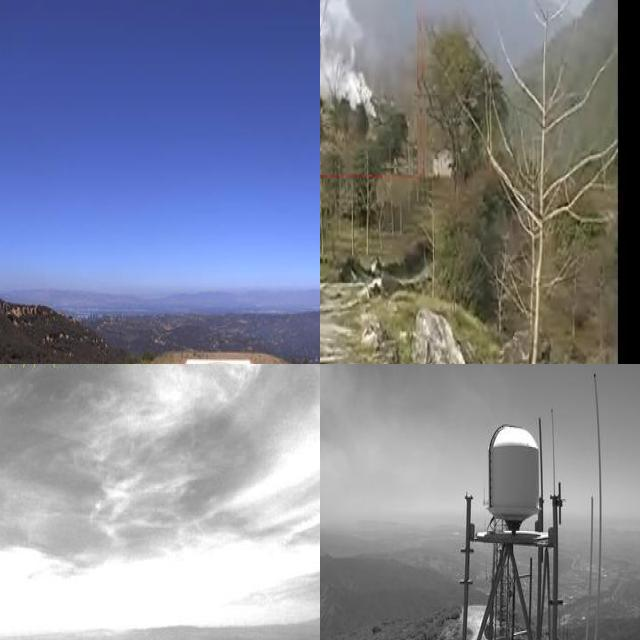smoke: (320, 0, 379, 115)
